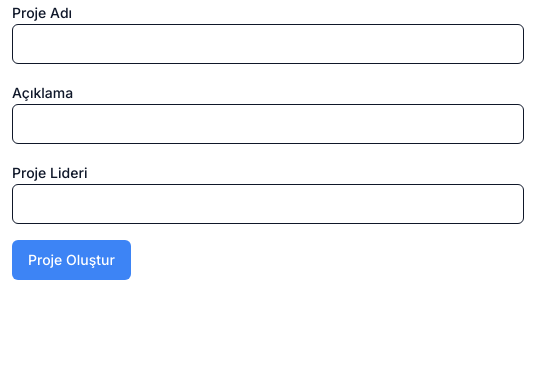
ProjectForm › shows validation errors for empty required fields
Step 1. Click the button "Proje Oluştur" → (71, 260), box [12,240,131,280]
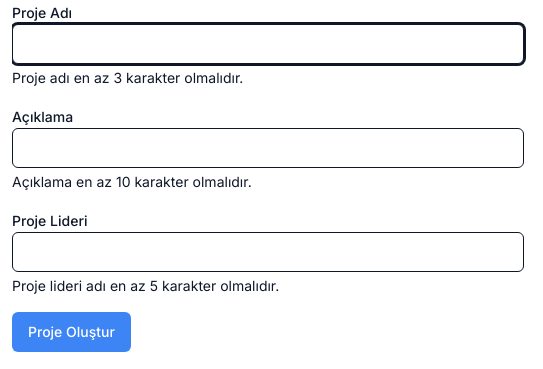
Expected: the text "Proje adı en az 3 karakter olmalıdır." is shown, [12,69,243,86]
Expected: the text "Açıklama en az 10 karakter olmalıdır." is shown, [12,173,252,190]
Expected: the text "Proje lideri adı en az 5 karakter olmalıdır." is shown, [12,277,279,294]
